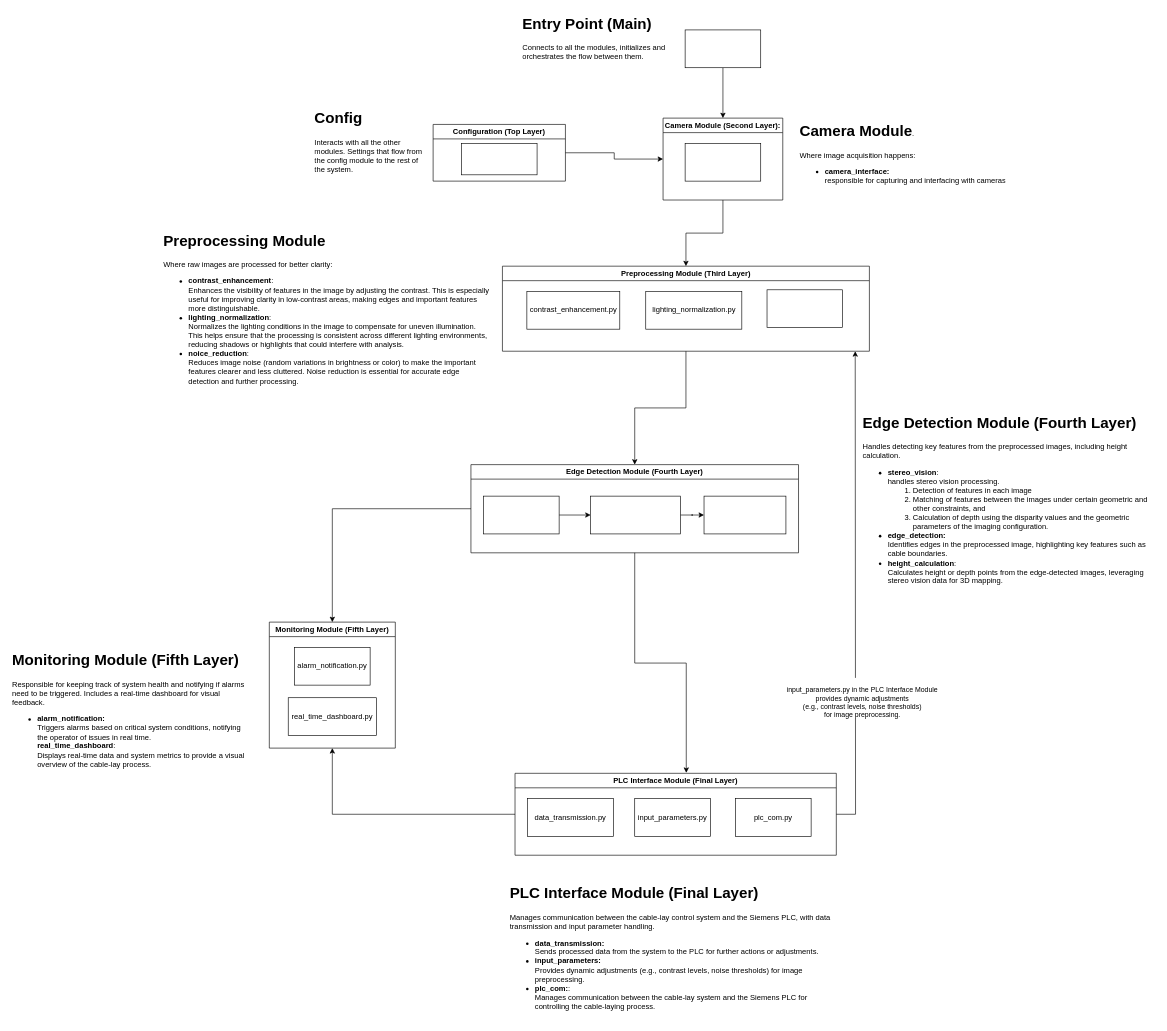
The diagram is 1167 pixels wide and 1031 high, and some of its shapes have lost their labels. The shapes that lost their labels are listed below. From the top down, each one's centre as x and y in pixels, then its label:
At (722,48): "main.py".
At (499,159): "Config.py".
At (722,162): "camera_interface.py".
At (804,308): "noise_reduction.py".
At (521,514): "stereo_vision.py".
At (635,514): "edge_detection.py".
At (744,514): "height_calculation.py".
